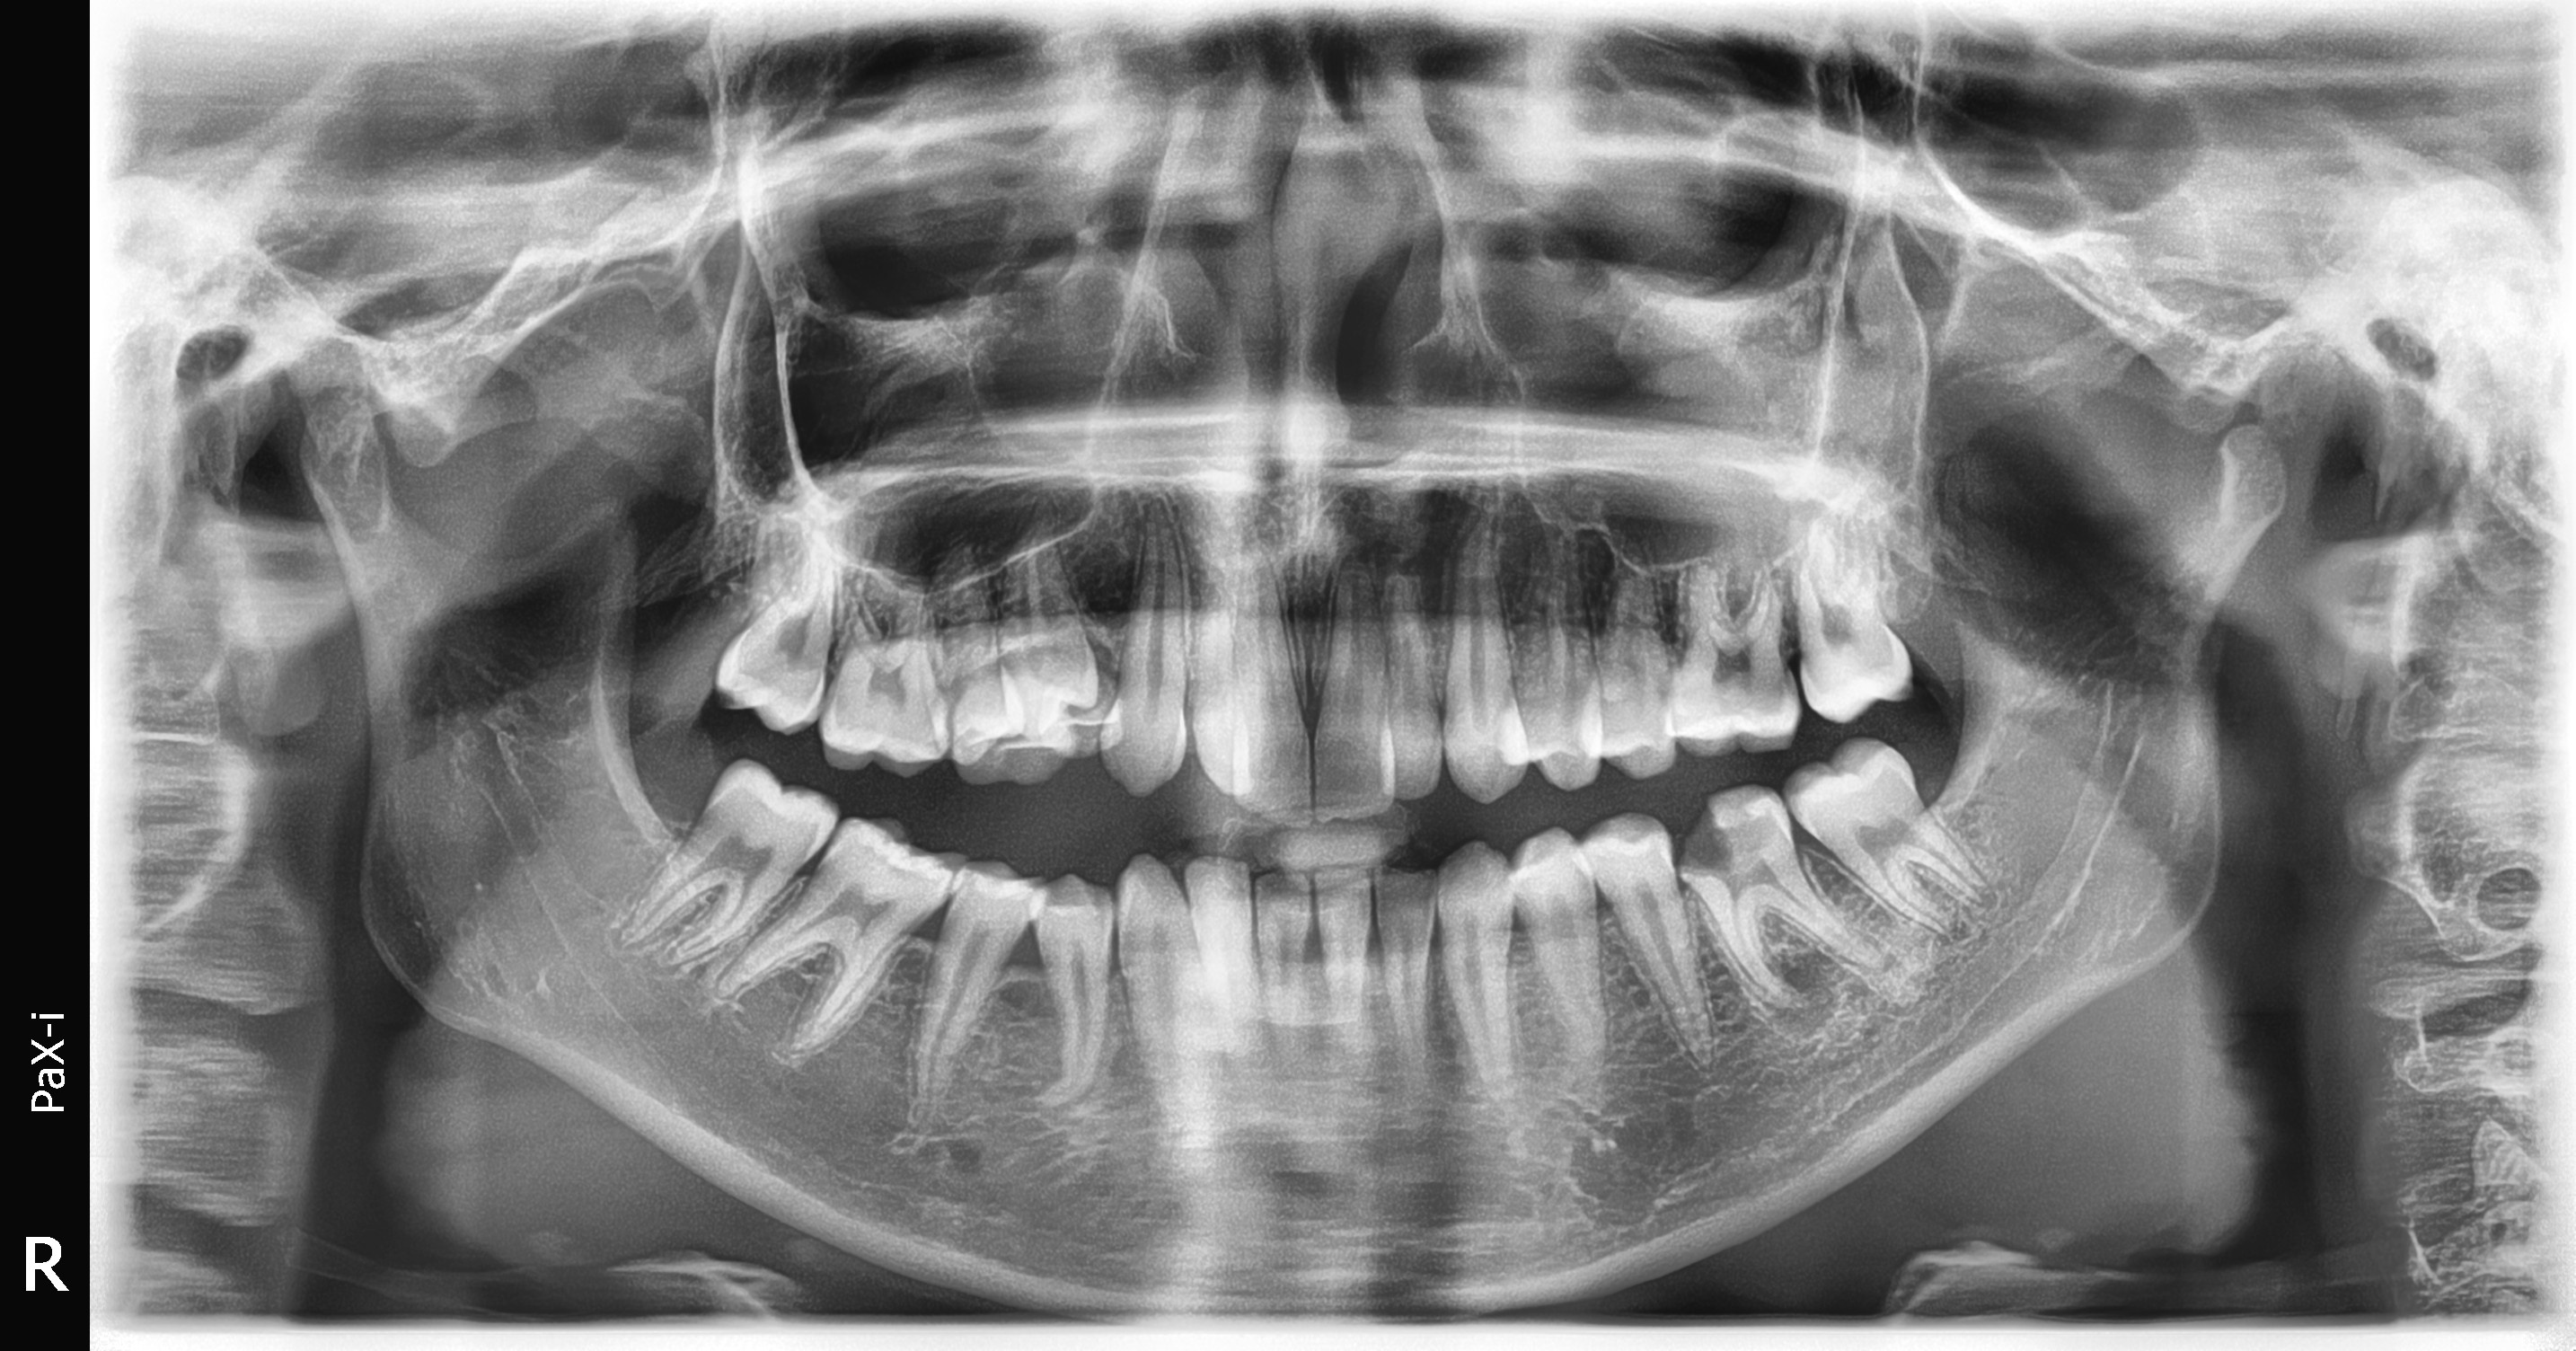API: (1738, 959, 1850, 1082)
CAR: (1654, 777, 1757, 896)
